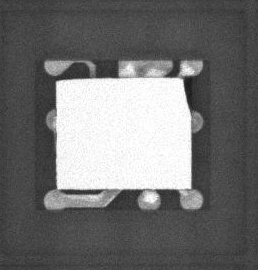DIE_BROKEN: (180, 78, 192, 116)
